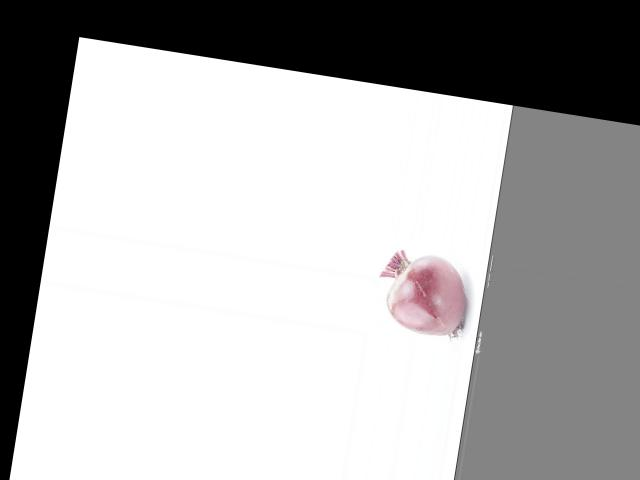beet: (372, 247, 472, 339)
